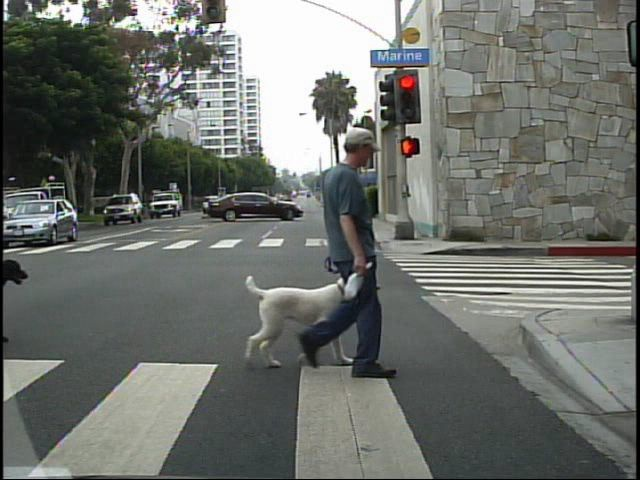person: (292, 113, 399, 381)
